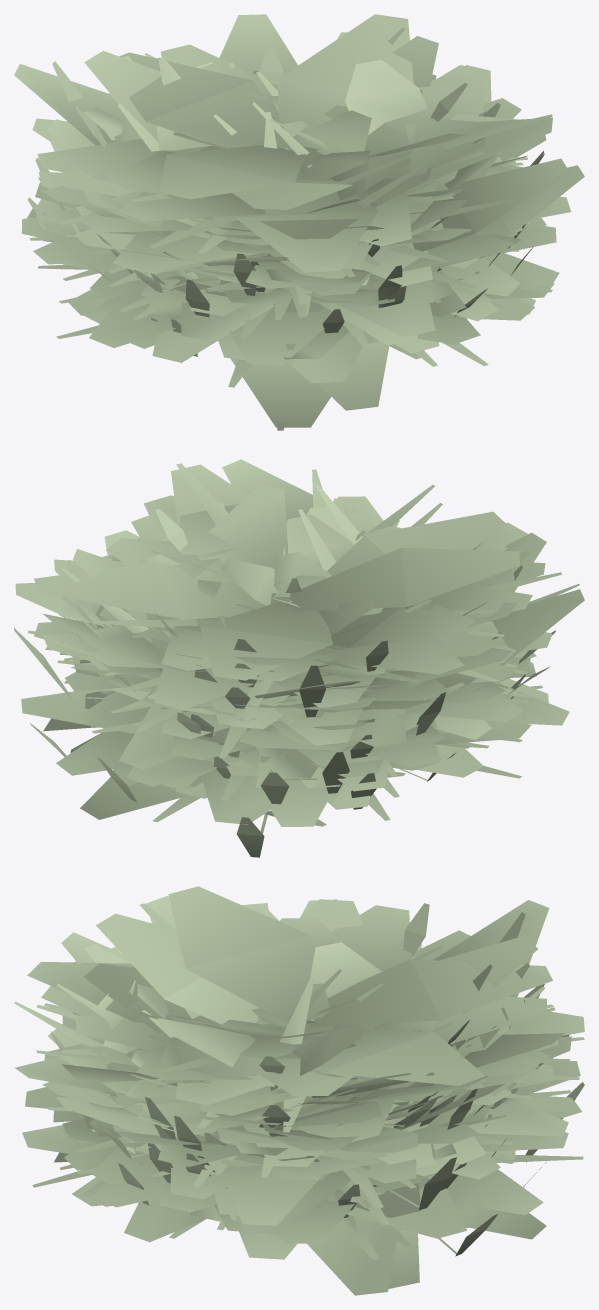
Rendered from layer_groundcover.glb.
3 views of the same model, one above another, from view 1: azimuth 30°, elevation 25°; view 2: azimuth 150°, elevation 25°; view 3: azimuth 270°, elevation 25° (orthographic). The views are drawn at different scales.
Parts seen in each view (by area): view 1: v0_foliage, v2_foliage, v1_foliage, v5_foliage, v6_foliage, v4_foliage, v7_foliage, v3_foliage; view 2: v0_foliage, v2_foliage, v1_foliage, v5_foliage, v6_foliage, v4_foliage, v7_foliage, v3_foliage; view 3: v0_foliage, v2_foliage, v1_foliage, v5_foliage, v6_foliage, v4_foliage, v7_foliage, v3_foliage.
Part boxes in pixels (bbox=[...]): v0_foliage: bbox=[21, 14, 570, 427]; v2_foliage: bbox=[27, 44, 559, 410]; v1_foliage: bbox=[14, 14, 584, 301]; v5_foliage: bbox=[32, 60, 546, 276]; v6_foliage: bbox=[30, 114, 555, 430]; v4_foliage: bbox=[28, 61, 544, 356]; v7_foliage: bbox=[65, 27, 527, 291]; v3_foliage: bbox=[75, 47, 500, 292]; v0_foliage: bbox=[21, 464, 569, 824]; v2_foliage: bbox=[34, 511, 548, 826]; v1_foliage: bbox=[43, 459, 584, 751]; v5_foliage: bbox=[15, 507, 529, 720]; v6_foliage: bbox=[28, 463, 561, 822]; v4_foliage: bbox=[14, 565, 525, 857]; v7_foliage: bbox=[50, 469, 579, 720]; v3_foliage: bbox=[61, 498, 555, 757]; v0_foliage: bbox=[22, 886, 584, 1259]; v2_foliage: bbox=[41, 899, 571, 1295]; v1_foliage: bbox=[14, 896, 564, 1177]; v5_foliage: bbox=[42, 944, 550, 1165]; v6_foliage: bbox=[32, 903, 584, 1259]; v4_foliage: bbox=[51, 912, 584, 1256]; v7_foliage: bbox=[14, 903, 544, 1179]; v3_foliage: bbox=[80, 903, 569, 1161].
Bounding box in the file's own units: 2.38 × 1 × 2.38.
